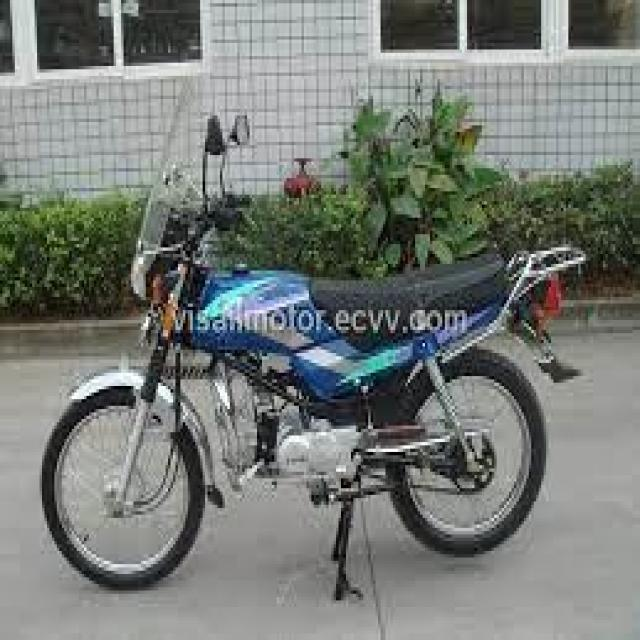motorcycle: (22, 74, 598, 606)
